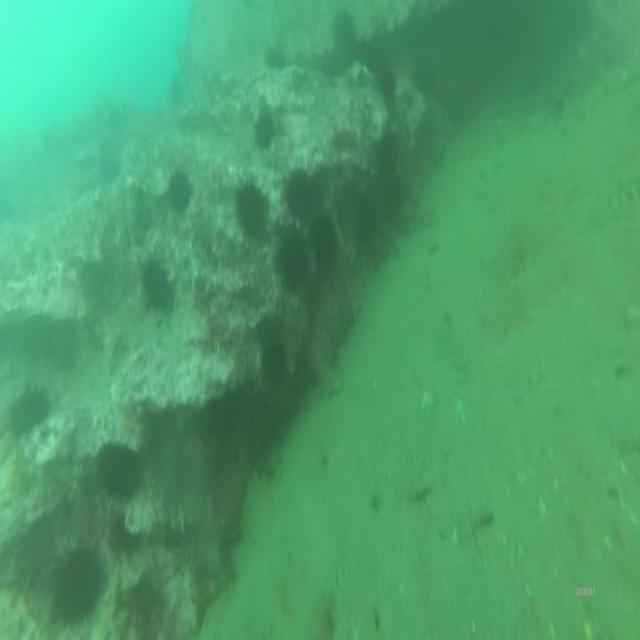echinus: (51, 536, 113, 634), (90, 436, 146, 506), (133, 245, 178, 325), (231, 172, 272, 247), (272, 222, 312, 298), (7, 381, 54, 444), (278, 161, 320, 226), (160, 164, 198, 226), (257, 332, 293, 395), (330, 6, 361, 66), (254, 100, 276, 156)
